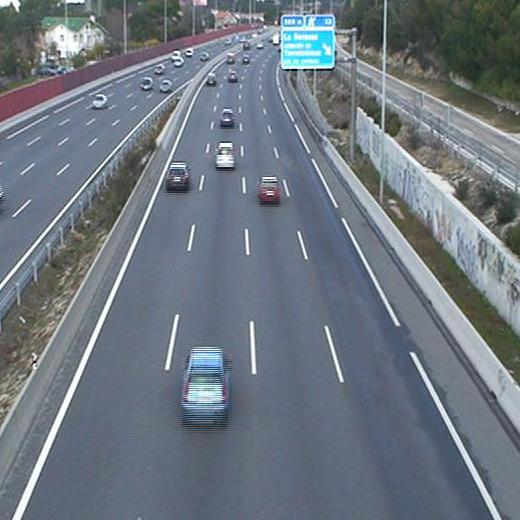car: (183, 347, 228, 419), (166, 161, 188, 192), (258, 175, 279, 200), (215, 142, 236, 166), (219, 108, 233, 125), (205, 72, 216, 86), (226, 72, 238, 83), (242, 55, 250, 63)
